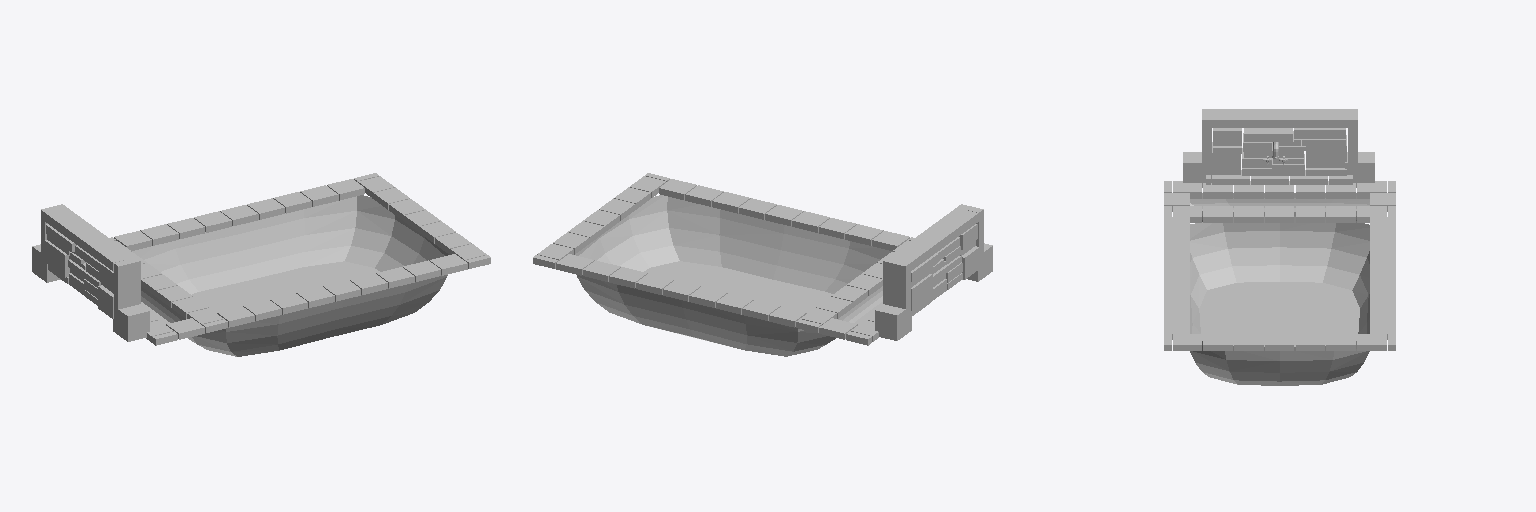
File: FancyPool.obj
3 views of the same model, side by side, from view 1: azimuth 30°, elevation 25°; view 2: azimuth 150°, elevation 25°; view 3: azimuth 270°, elevation 25° (orthographic).
Visible parts, largest first — view 1: loftedSurface1, pCube11, pCube13, pCube12, pCube18, pCube19, pCube21, loftedSurface2, pCube16 polySurface18, pCube14; view 2: loftedSurface1, pCube11, pCube13, pCube12, pCube18, pCube17, pCube20, loftedSurface2, pCube14, pCube16 polySurface18; view 3: loftedSurface1, pCube13, pCube12, pCube14, pCube11, pCube18, loftedSurface2, pCube15, pCube16 polySurface18, pCube21, pCube20, pCube16 polySurface28 (+4 smaller).
Part boxes in pixels (x1,y1,x2,y2): loftedSurface1: (132,195,448,356); pCube11: (217,254,467,327); pCube13: (354,173,490,268); pCube12: (110,237,227,332); pCube18: (45,208,135,271); pCube19: (114,258,140,309); pCube21: (113,304,149,341); loftedSurface2: (141,286,185,324); pCube16 polySurface18: (45,240,70,277); pCube14: (146,314,177,345); loftedSurface1: (575,195,892,356); pCube11: (659,179,909,250); pCube13: (533,173,669,268); pCube12: (796,237,913,332); pCube18: (888,208,978,270); pCube17: (883,258,910,308); pCube20: (875,304,911,340); loftedSurface2: (838,286,882,324); pCube14: (846,313,878,345); pCube16 polySurface18: (911,274,932,310); loftedSurface1: (1190,216,1369,385); pCube13: (1164,334,1395,350); pCube12: (1164,206,1395,222); pCube14: (1164,181,1395,198); pCube11: (1164,217,1189,339); pCube18: (1212,109,1348,127); loftedSurface2: (1190,193,1369,221); pCube15: (1206,170,1352,184); pCube16 polySurface18: (1306,135,1346,167); pCube21: (1183,152,1211,187); pCube20: (1345,152,1374,187); pCube16 polySurface28: (1244,128,1292,141).
Bounding box in the file's own units: 16.01 × 5.26 × 9.03.